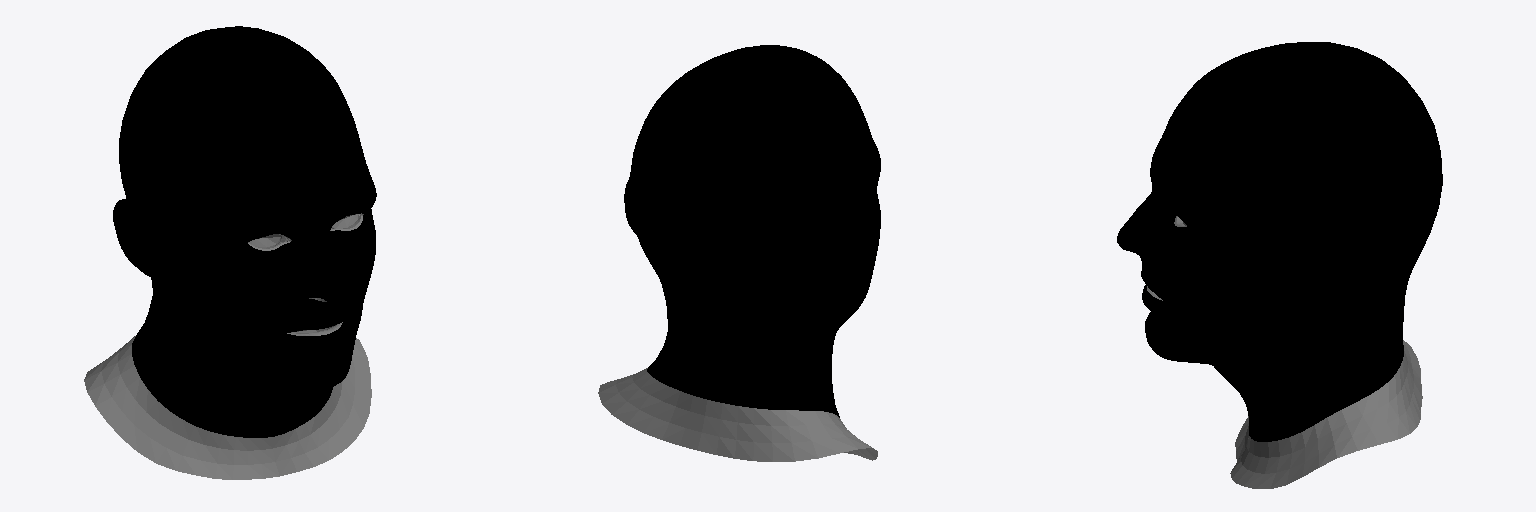
File: Guy_wrap.obj
3 views of the same model, side by side, from view 1: azimuth 30°, elevation 25°; view 2: azimuth 150°, elevation 25°; view 3: azimuth 270°, elevation 25° (orthographic).
Parts seen in each view (by area): view 1: CHA_PCM_Head_Head001_LOD0; view 2: CHA_PCM_Head_Head001_LOD0; view 3: CHA_PCM_Head_Head001_LOD0.
Part boxes in pixels (x1,y1,x2,y2): CHA_PCM_Head_Head001_LOD0: (84,26,376,479); CHA_PCM_Head_Head001_LOD0: (598,45,880,461); CHA_PCM_Head_Head001_LOD0: (1117,42,1442,488).
Size of the model in its own units: 22.23 by 32.93 by 23.68.